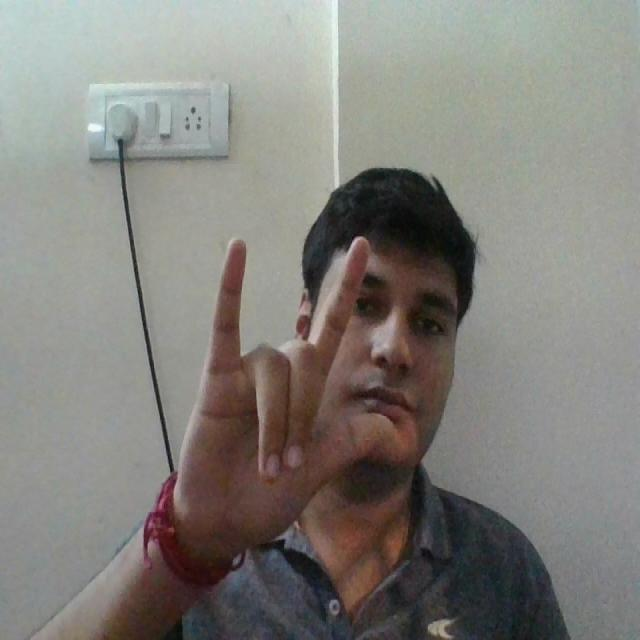I love you: (180, 229, 396, 598)
